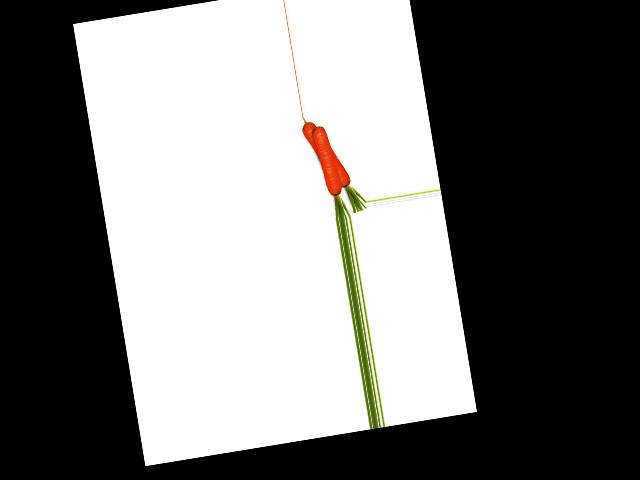carrot: (301, 111, 352, 198)
